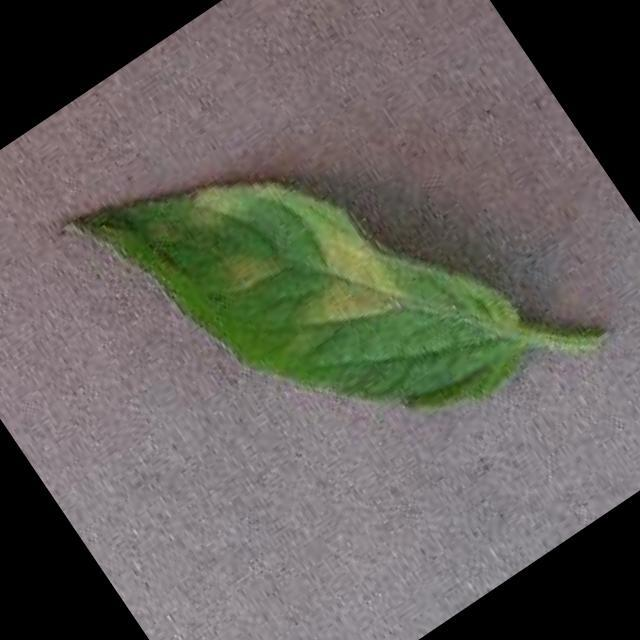Tomato mold leaf: (62, 38, 544, 535)
